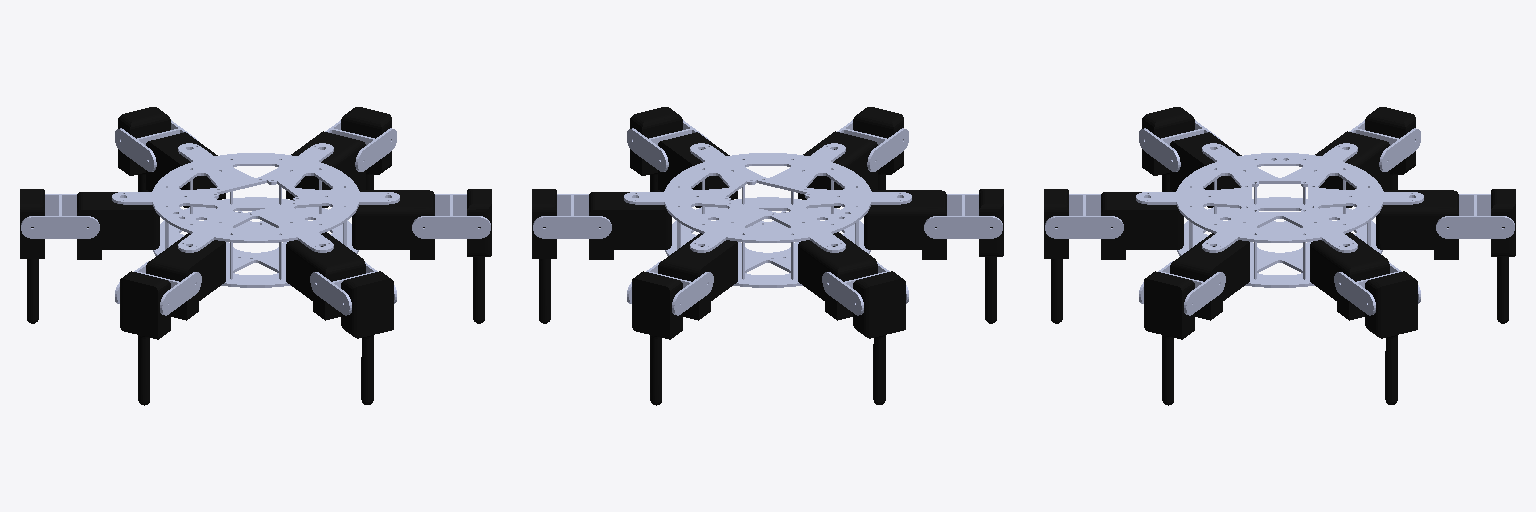
The robot description file, URDF, robot "SpiderRobot":
<robot
  name="SpiderRobot">
  <link
    name="Link_Base">
    <inertial>
      <origin
        xyz="0.092998 -0.23315 0.16338"
        rpy="0 0 0" />
      <mass
        value="0.20744" />
      <inertia
        ixx="0.0010006"
        ixy="-4.7058E-19"
        ixz="4.8231E-07"
        iyy="0.00099647"
        iyz="-5.274E-19"
        izz="0.0017333" />
    </inertial>
    <visual>
      <origin
        xyz="0 0 0"
        rpy="0 0 0" />
      <geometry>
        <mesh
          filename="package://SpiderRobot_pkg/meshes/Link_Base.STL" />
      </geometry>
      <material
        name="">
        <color
          rgba="0.79216 0.81961 0.93333 1" />
      </material>
    </visual>
    <collision>
      <origin
        xyz="0 0 0"
        rpy="0 0 0" />
      <geometry>
        <mesh
          filename="package://SpiderRobot_pkg/meshes/Link_Base.STL" />
      </geometry>
    </collision>
  </link>
  <link
    name="Link_00">
    <inertial>
      <origin
        xyz="0.063911 0.0063284 -0.029431"
        rpy="0 0 0" />
      <mass
        value="0.20143" />
      <inertia
        ixx="0.00016993"
        ixy="3.7525E-07"
        ixz="4.1784E-08"
        iyy="0.00016576"
        iyz="1.1618E-05"
        izz="8.1534E-05" />
    </inertial>
    <visual>
      <origin
        xyz="0 0 0"
        rpy="0 0 0" />
      <geometry>
        <mesh
          filename="package://SpiderRobot_pkg/meshes/Link_00.STL" />
      </geometry>
      <material
        name="">
        <color
          rgba="0.1 0.1 0.1 1" />
      </material>
    </visual>
    <collision>
      <origin
        xyz="0 0 0"
        rpy="0 0 0" />
      <geometry>
        <mesh
          filename="package://SpiderRobot_pkg/meshes/Link_00.STL" />
      </geometry>
    </collision>
  </link>
  <joint
    name="Joint_00"
    type="revolute">
    <origin
      xyz="0.21137 -0.09086 0.16867"
      rpy="-1.5708 0 -1.0472" />
    <parent
      link="Link_Base" />
    <child
      link="Link_00" />
    <axis
      xyz="0 1 0" />
    <limit
      lower="-1.57"
      upper="1.57"
      effort="0"
      velocity="1.57" />
  </joint>
  <link
    name="Link_01">
    <inertial>
      <origin
        xyz="0.02413 -0.015875 0.02286"
        rpy="0 0 0" />
      <mass
        value="0.015683" />
      <inertia
        ixx="6.6059E-06"
        ixy="-8.4703E-22"
        ixz="-5.808E-22"
        iyy="1.0234E-05"
        iyz="5.2268E-22"
        izz="1.532E-05" />
    </inertial>
    <visual>
      <origin
        xyz="0 0 0"
        rpy="0 0 0" />
      <geometry>
        <mesh
          filename="package://SpiderRobot_pkg/meshes/Link_01.STL" />
      </geometry>
      <material
        name="">
        <color
          rgba="0.79216 0.81961 0.93333 1" />
      </material>
    </visual>
    <collision>
      <origin
        xyz="0 0 0"
        rpy="0 0 0" />
      <geometry>
        <mesh
          filename="package://SpiderRobot_pkg/meshes/Link_01.STL" />
      </geometry>
    </collision>
  </link>
  <joint
    name="Joint_01"
    type="revolute">
    <origin
      xyz="0.08812 -0.02286 0.04445"
      rpy="1.5708 0 3.1416" />
    <parent
      link="Link_00" />
    <child
      link="Link_01" />
    <axis
      xyz="1 0 0" />
    <limit
      lower="-1.57"
      upper="1.57"
      effort="0"
      velocity="1.57" />
  </joint>
  <link
    name="Link_02">
    <inertial>
      <origin
        xyz="0.024319 0.012686 0.039333"
        rpy="0 0 0" />
      <mass
        value="0.082362" />
      <inertia
        ixx="7.7214E-05"
        ixy="1.1967E-07"
        ixz="-6.1172E-09"
        iyy="8.6937E-05"
        iyz="-1.0754E-07"
        izz="1.754E-05" />
    </inertial>
    <visual>
      <origin
        xyz="0 0 0"
        rpy="0 0 0" />
      <geometry>
        <mesh
          filename="package://SpiderRobot_pkg/meshes/Link_02.STL" />
      </geometry>
      <material
        name="">
        <color
          rgba="0.1 0.1 0.1 1" />
      </material>
    </visual>
    <collision>
      <origin
        xyz="0 0 0"
        rpy="0 0 0" />
      <geometry>
        <mesh
          filename="package://SpiderRobot_pkg/meshes/Link_02.STL" />
      </geometry>
    </collision>
  </link>
  <joint
    name="Joint_02"
    type="revolute">
    <origin
      xyz="0 0 0"
      rpy="0 0 0" />
    <parent
      link="Link_01" />
    <child
      link="Link_02" />
    <axis
      xyz="1 0 0" />
    <limit
      lower="-1.57"
      upper="1.57"
      effort="0"
      velocity="1.57" />
  </joint>
  <link
    name="Link_10">
    <inertial>
      <origin
        xyz="7.9382E-05 0.032178 0.0073986"
        rpy="0 0 0" />
      <mass
        value="0.20143" />
      <inertia
        ixx="0.00016992"
        ixy="3.7534E-07"
        ixz="-4.1624E-08"
        iyy="0.00016576"
        iyz="-1.1618E-05"
        izz="8.1534E-05" />
    </inertial>
    <visual>
      <origin
        xyz="0 0 0"
        rpy="0 0 0" />
      <geometry>
        <mesh
          filename="package://SpiderRobot_pkg/meshes/Link_10.STL" />
      </geometry>
      <material
        name="">
        <color
          rgba="0.1 0.1 0.1 1" />
      </material>
    </visual>
    <collision>
      <origin
        xyz="0 0 0"
        rpy="0 0 0" />
      <geometry>
        <mesh
          filename="package://SpiderRobot_pkg/meshes/Link_10.STL" />
      </geometry>
    </collision>
  </link>
  <joint
    name="Joint_10"
    type="revolute">
    <origin
      xyz="0.09291 -0.096239 0.13016"
      rpy="1.5708 0 3.1416" />
    <parent
      link="Link_Base" />
    <child
      link="Link_10" />
    <axis
      xyz="0 1 0" />
    <limit
      lower="-1.57"
      upper="1.57"
      effort="0"
      velocity="1.57" />
  </joint>
  <link
    name="Link_11">
    <inertial>
      <origin
        xyz="1.49047441055927E-14 -1.41830991395864E-14 -0.0285749999999704"
        rpy="0 0 0" />
      <mass
        value="0.0156829833047926" />
      <inertia
        ixx="6.60589614129108E-06"
        ixy="2.25106178579062E-22"
        ixz="8.23949438285242E-23"
        iyy="1.53200173406597E-05"
        iyz="-1.32771265675563E-22"
        izz="1.02342708551316E-05" />
    </inertial>
    <visual>
      <origin
        xyz="0 0 0"
        rpy="0 0 0" />
      <geometry>
        <mesh
          filename="package://SpiderRobot_pkg/meshes/Link_11.STL" />
      </geometry>
      <material
        name="">
        <color
          rgba="0.792156862745098 0.819607843137255 0.933333333333333 1" />
      </material>
    </visual>
    <collision>
      <origin
        xyz="0 0 0"
        rpy="0 0 0" />
      <geometry>
        <mesh
          filename="package://SpiderRobot_pkg/meshes/Link_11.STL" />
      </geometry>
    </collision>
  </link>
  <joint
    name="Joint_11"
    type="revolute">
    <origin
      xyz="0 0.038506 0.03683"
      rpy="3.1416 0 3.1416" />
    <parent
      link="Link_10" />
    <child
      link="Link_11" />
    <axis
      xyz="-1 0 0" />
    <limit
      lower="-1.57"
      upper="1.57"
      effort="0"
      velocity="1.57" />
  </joint>
  <link
    name="Link_12">
    <inertial>
      <origin
        xyz="0.024319 0.012686 0.039333"
        rpy="0 0 0" />
      <mass
        value="0.082362" />
      <inertia
        ixx="7.7214E-05"
        ixy="1.1968E-07"
        ixz="-6.1258E-09"
        iyy="8.6937E-05"
        iyz="-1.0753E-07"
        izz="1.754E-05" />
    </inertial>
    <visual>
      <origin
        xyz="0 0 0"
        rpy="0 0 0" />
      <geometry>
        <mesh
          filename="package://SpiderRobot_pkg/meshes/Link_12.STL" />
      </geometry>
      <material
        name="">
        <color
          rgba="0.1 0.1 0.1 1" />
      </material>
    </visual>
    <collision>
      <origin
        xyz="0 0 0"
        rpy="0 0 0" />
      <geometry>
        <mesh
          filename="package://SpiderRobot_pkg/meshes/Link_12.STL" />
      </geometry>
    </collision>
  </link>
  <joint
    name="Joint_12"
    type="revolute">
    <origin
      xyz="0.02413 0.02286 -0.04445"
      rpy="-1.5708 0 3.1416" />
    <parent
      link="Link_11" />
    <child
      link="Link_12" />
    <axis
      xyz="1 0 0" />
    <limit
      lower="-1.57"
      upper="1.57"
      effort="0"
      velocity="1.57" />
  </joint>
  <link
    name="Link_20">
    <inertial>
      <origin
        xyz="7.9384E-05 0.032178 0.0073986"
        rpy="0 0 0" />
      <mass
        value="0.20143" />
      <inertia
        ixx="0.00016992"
        ixy="3.7534E-07"
        ixz="-4.1637E-08"
        iyy="0.00016576"
        iyz="-1.1618E-05"
        izz="8.1534E-05" />
    </inertial>
    <visual>
      <origin
        xyz="0 0 0"
        rpy="0 0 0" />
      <geometry>
        <mesh
          filename="package://SpiderRobot_pkg/meshes/Link_20.STL" />
      </geometry>
      <material
        name="">
        <color
          rgba="0.1 0.1 0.1 1" />
      </material>
    </visual>
    <collision>
      <origin
        xyz="0 0 0"
        rpy="0 0 0" />
      <geometry>
        <mesh
          filename="package://SpiderRobot_pkg/meshes/Link_20.STL" />
      </geometry>
    </collision>
  </link>
  <joint
    name="Joint_20"
    type="revolute">
    <origin
      xyz="-0.025655 -0.16469 0.13016"
      rpy="1.5708 0 -2.0944" />
    <parent
      link="Link_Base" />
    <child
      link="Link_20" />
    <axis
      xyz="0 1 0" />
    <limit
      lower="-1.57"
      upper="1.57"
      effort="0"
      velocity="1.57" />
  </joint>
  <link
    name="Link_21">
    <inertial>
      <origin
        xyz="2.77555756156289E-17 0 -0.028575"
        rpy="0 0 0" />
      <mass
        value="0.0156829833047926" />
      <inertia
        ixx="6.60589614129111E-06"
        ixy="1.25886949684521E-22"
        ixz="2.11758236813575E-22"
        iyy="1.53200173406597E-05"
        iyz="8.22409768924959E-23"
        izz="1.02342708551317E-05" />
    </inertial>
    <visual>
      <origin
        xyz="0 0 0"
        rpy="0 0 0" />
      <geometry>
        <mesh
          filename="package://SpiderRobot_pkg/meshes/Link_21.STL" />
      </geometry>
      <material
        name="">
        <color
          rgba="0.792156862745098 0.819607843137255 0.933333333333333 1" />
      </material>
    </visual>
    <collision>
      <origin
        xyz="0 0 0"
        rpy="0 0 0" />
      <geometry>
        <mesh
          filename="package://SpiderRobot_pkg/meshes/Link_21.STL" />
      </geometry>
    </collision>
  </link>
  <joint
    name="Joint_21"
    type="revolute">
    <origin
      xyz="0 0.038506 0.03683"
      rpy="3.1416 0 3.1416" />
    <parent
      link="Link_20" />
    <child
      link="Link_21" />
    <axis
      xyz="-1 0 0" />
    <limit
      lower="-1.57"
      upper="1.57"
      effort="0"
      velocity="1.57" />
  </joint>
  <link
    name="Link_22">
    <inertial>
      <origin
        xyz="0.024319 0.012686 0.039333"
        rpy="0 0 0" />
      <mass
        value="0.082362" />
      <inertia
        ixx="7.7215E-05"
        ixy="1.1974E-07"
        ixz="-6.0699E-09"
        iyy="8.6937E-05"
        iyz="-1.0747E-07"
        izz="1.754E-05" />
    </inertial>
    <visual>
      <origin
        xyz="0 0 0"
        rpy="0 0 0" />
      <geometry>
        <mesh
          filename="package://SpiderRobot_pkg/meshes/Link_22.STL" />
      </geometry>
      <material
        name="">
        <color
          rgba="0.1 0.1 0.1 1" />
      </material>
    </visual>
    <collision>
      <origin
        xyz="0 0 0"
        rpy="0 0 0" />
      <geometry>
        <mesh
          filename="package://SpiderRobot_pkg/meshes/Link_22.STL" />
      </geometry>
    </collision>
  </link>
  <joint
    name="Joint_22"
    type="revolute">
    <origin
      xyz="0.02413 0.02286 -0.04445"
      rpy="-1.5708 0 3.1416" />
    <parent
      link="Link_21" />
    <child
      link="Link_22" />
    <axis
      xyz="1 0 0" />
    <limit
      lower="-1.57"
      upper="1.57"
      effort="0"
      velocity="1.57" />
  </joint>
  <link
    name="Link_30">
    <inertial>
      <origin
        xyz="7.9365E-05 0.032178 0.0073986"
        rpy="0 0 0" />
      <mass
        value="0.20143" />
      <inertia
        ixx="0.00016993"
        ixy="3.7525E-07"
        ixz="-4.1784E-08"
        iyy="0.00016576"
        iyz="-1.1618E-05"
        izz="8.1534E-05" />
    </inertial>
    <visual>
      <origin
        xyz="0 0 0"
        rpy="0 0 0" />
      <geometry>
        <mesh
          filename="package://SpiderRobot_pkg/meshes/Link_30.STL" />
      </geometry>
      <material
        name="">
        <color
          rgba="0.1 0.1 0.1 1" />
      </material>
    </visual>
    <collision>
      <origin
        xyz="0 0 0"
        rpy="0 0 0" />
      <geometry>
        <mesh
          filename="package://SpiderRobot_pkg/meshes/Link_30.STL" />
      </geometry>
    </collision>
  </link>
  <joint
    name="Joint_30"
    type="revolute">
    <origin
      xyz="-0.025655 -0.3016 0.13016"
      rpy="1.5708 0 -1.0472" />
    <parent
      link="Link_Base" />
    <child
      link="Link_30" />
    <axis
      xyz="0 1 0" />
    <limit
      lower="-1.57"
      upper="1.57"
      effort="0"
      velocity="1.57" />
  </joint>
  <link
    name="Link_31">
    <inertial>
      <origin
        xyz="-1.38777878078145E-16 -1.38777878078145E-16 -0.0285749999999999"
        rpy="0 0 0" />
      <mass
        value="0.0156829833047926" />
      <inertia
        ixx="6.6058961412911E-06"
        ixy="2.75510256767986E-21"
        ixz="-6.56450534122083E-21"
        iyy="1.53200173406597E-05"
        iyz="2.59976339912298E-21"
        izz="1.02342708551317E-05" />
    </inertial>
    <visual>
      <origin
        xyz="0 0 0"
        rpy="0 0 0" />
      <geometry>
        <mesh
          filename="package://SpiderRobot_pkg/meshes/Link_31.STL" />
      </geometry>
      <material
        name="">
        <color
          rgba="0.792156862745098 0.819607843137255 0.933333333333333 1" />
      </material>
    </visual>
    <collision>
      <origin
        xyz="0 0 0"
        rpy="0 0 0" />
      <geometry>
        <mesh
          filename="package://SpiderRobot_pkg/meshes/Link_31.STL" />
      </geometry>
    </collision>
  </link>
  <joint
    name="Joint_31"
    type="revolute">
    <origin
      xyz="0 0.038506 0.03683"
      rpy="-3.1416 0 0" />
    <parent
      link="Link_30" />
    <child
      link="Link_31" />
    <axis
      xyz="1 0 0" />
    <limit
      lower="-1.57"
      upper="1.57"
      effort="0"
      velocity="1.57" />
  </joint>
  <link
    name="Link_32">
    <inertial>
      <origin
        xyz="0.024319 0.012686 0.039333"
        rpy="0 0 0" />
      <mass
        value="0.082362" />
      <inertia
        ixx="7.7214E-05"
        ixy="1.1967E-07"
        ixz="-6.1172E-09"
        iyy="8.6937E-05"
        iyz="-1.0754E-07"
        izz="1.754E-05" />
    </inertial>
    <visual>
      <origin
        xyz="0 0 0"
        rpy="0 0 0" />
      <geometry>
        <mesh
          filename="package://SpiderRobot_pkg/meshes/Link_32.STL" />
      </geometry>
      <material
        name="">
        <color
          rgba="0.1 0.1 0.1 1" />
      </material>
    </visual>
    <collision>
      <origin
        xyz="0 0 0"
        rpy="0 0 0" />
      <geometry>
        <mesh
          filename="package://SpiderRobot_pkg/meshes/Link_32.STL" />
      </geometry>
    </collision>
  </link>
  <joint
    name="Joint_32"
    type="revolute">
    <origin
      xyz="-0.02413 -0.02286 -0.04445"
      rpy="-1.5708 0 0" />
    <parent
      link="Link_31" />
    <child
      link="Link_32" />
    <axis
      xyz="1 0 0" />
    <limit
      lower="-1.57"
      upper="1.57"
      effort="0"
      velocity="1.57" />
  </joint>
  <link
    name="Link_40">
    <inertial>
      <origin
        xyz="7.9382E-05 0.032178 0.0073986"
        rpy="0 0 0" />
      <mass
        value="0.20143" />
      <inertia
        ixx="0.00016992"
        ixy="3.7534E-07"
        ixz="-4.1624E-08"
        iyy="0.00016576"
        iyz="-1.1618E-05"
        izz="8.1534E-05" />
    </inertial>
    <visual>
      <origin
        xyz="0 0 0"
        rpy="0 0 0" />
      <geometry>
        <mesh
          filename="package://SpiderRobot_pkg/meshes/Link_40.STL" />
      </geometry>
      <material
        name="">
        <color
          rgba="0.1 0.1 0.1 1" />
      </material>
    </visual>
    <collision>
      <origin
        xyz="0 0 0"
        rpy="0 0 0" />
      <geometry>
        <mesh
          filename="package://SpiderRobot_pkg/meshes/Link_40.STL" />
      </geometry>
    </collision>
  </link>
  <joint
    name="Joint_40"
    type="revolute">
    <origin
      xyz="0.09291 -0.37005 0.13016"
      rpy="1.5708 0 0" />
    <parent
      link="Link_Base" />
    <child
      link="Link_40" />
    <axis
      xyz="0 1 0" />
    <limit
      lower="-1.57"
      upper="1.57"
      effort="0"
      velocity="1.57" />
  </joint>
  <link
    name="Link_41">
    <inertial>
      <origin
        xyz="-4.16333634234434E-17 0 0.028575"
        rpy="0 0 0" />
      <mass
        value="0.0156829833047926" />
      <inertia
        ixx="6.60589614129109E-06"
        ixy="-1.33581727993433E-22"
        ixz="9.11191143515447E-22"
        iyy="1.53200173406597E-05"
        iyz="3.13155305494476E-22"
        izz="1.02342708551316E-05" />
    </inertial>
    <visual>
      <origin
        xyz="0 0 0"
        rpy="0 0 0" />
      <geometry>
        <mesh
          filename="package://SpiderRobot_pkg/meshes/Link_41.STL" />
      </geometry>
      <material
        name="">
        <color
          rgba="0.792156862745098 0.819607843137255 0.933333333333333 1" />
      </material>
    </visual>
    <collision>
      <origin
        xyz="0 0 0"
        rpy="0 0 0" />
      <geometry>
        <mesh
          filename="package://SpiderRobot_pkg/meshes/Link_41.STL" />
      </geometry>
    </collision>
  </link>
  <joint
    name="Joint_41"
    type="revolute">
    <origin
      xyz="0 0.038506 0.03683"
      rpy="0 0 0" />
    <parent
      link="Link_40" />
    <child
      link="Link_41" />
    <axis
      xyz="1 0 0" />
    <limit
      lower="-1.57"
      upper="1.57"
      effort="0"
      velocity="1.57" />
  </joint>
  <link
    name="Link_42">
    <inertial>
      <origin
        xyz="0.024319 0.012686 0.039333"
        rpy="0 0 0" />
      <mass
        value="0.082362" />
      <inertia
        ixx="7.7214E-05"
        ixy="1.1968E-07"
        ixz="-6.1258E-09"
        iyy="8.6937E-05"
        iyz="-1.0753E-07"
        izz="1.754E-05" />
    </inertial>
    <visual>
      <origin
        xyz="0 0 0"
        rpy="0 0 0" />
      <geometry>
        <mesh
          filename="package://SpiderRobot_pkg/meshes/Link_42.STL" />
      </geometry>
      <material
        name="">
        <color
          rgba="0.1 0.1 0.1 1" />
      </material>
    </visual>
    <collision>
      <origin
        xyz="0 0 0"
        rpy="0 0 0" />
      <geometry>
        <mesh
          filename="package://SpiderRobot_pkg/meshes/Link_42.STL" />
      </geometry>
    </collision>
  </link>
  <joint
    name="Joint_42"
    type="revolute">
    <origin
      xyz="-0.02413 0.02286 0.04445"
      rpy="1.5708 0 0" />
    <parent
      link="Link_41" />
    <child
      link="Link_42" />
    <axis
      xyz="1 0 0" />
    <limit
      lower="-1.57"
      upper="1.57"
      effort="0"
      velocity="1.57" />
  </joint>
  <link
    name="Link_50">
    <inertial>
      <origin
        xyz="7.9384E-05 0.032178 0.0073986"
        rpy="0 0 0" />
      <mass
        value="0.20143" />
      <inertia
        ixx="0.00016992"
        ixy="3.7534E-07"
        ixz="-4.1637E-08"
        iyy="0.00016576"
        iyz="-1.1618E-05"
        izz="8.1534E-05" />
    </inertial>
    <visual>
      <origin
        xyz="0 0 0"
        rpy="0 0 0" />
      <geometry>
        <mesh
          filename="package://SpiderRobot_pkg/meshes/Link_50.STL" />
      </geometry>
      <material
        name="">
        <color
          rgba="0.1 0.1 0.1 1" />
      </material>
    </visual>
    <collision>
      <origin
        xyz="0 0 0"
        rpy="0 0 0" />
      <geometry>
        <mesh
          filename="package://SpiderRobot_pkg/meshes/Link_50.STL" />
      </geometry>
    </collision>
  </link>
  <joint
    name="Joint_50"
    type="revolute">
    <origin
      xyz="0.21147 -0.3016 0.13016"
      rpy="1.5708 0 1.0472" />
    <parent
      link="Link_Base" />
    <child
      link="Link_50" />
    <axis
      xyz="0 1 0" />
    <limit
      lower="-1.57"
      upper="1.57"
      effort="0"
      velocity="1.57" />
  </joint>
  <link
    name="Link_51">
    <inertial>
      <origin
        xyz="2.77555756156289E-17 -8.32667268468867E-17 0.0285749999999999"
        rpy="0 0 0" />
      <mass
        value="0.0156829833047926" />
      <inertia
        ixx="6.6058961412911E-06"
        ixy="1.22637354249833E-21"
        ixz="9.10560418298373E-21"
        iyy="1.53200173406597E-05"
        iyz="2.0681458393273E-21"
        izz="1.02342708551317E-05" />
    </inertial>
    <visual>
      <origin
        xyz="0 0 0"
        rpy="0 0 0" />
      <geometry>
        <mesh
          filename="package://SpiderRobot_pkg/meshes/Link_51.STL" />
      </geometry>
      <material
        name="">
        <color
          rgba="0.792156862745098 0.819607843137255 0.933333333333333 1" />
      </material>
    </visual>
    <collision>
      <origin
        xyz="0 0 0"
        rpy="0 0 0" />
      <geometry>
        <mesh
          filename="package://SpiderRobot_pkg/meshes/Link_51.STL" />
      </geometry>
    </collision>
  </link>
  <joint
    name="Joint_51"
    type="revolute">
    <origin
      xyz="0 0.038506 0.03683"
      rpy="0 0 0" />
    <parent
      link="Link_50" />
    <child
      link="Link_51" />
    <axis
      xyz="1 0 0" />
    <limit
      lower="-1.57"
      upper="1.57"
      effort="0"
      velocity="1.57" />
  </joint>
  <link
    name="Link_52">
    <inertial>
      <origin
        xyz="0.024319 0.012686 0.039333"
        rpy="0 0 0" />
      <mass
        value="0.082362" />
      <inertia
        ixx="7.7214E-05"
        ixy="1.1974E-07"
        ixz="-6.0787E-09"
        iyy="8.6937E-05"
        iyz="-1.0747E-07"
        izz="1.754E-05" />
    </inertial>
    <visual>
      <origin
        xyz="0 0 0"
        rpy="0 0 0" />
      <geometry>
        <mesh
          filename="package://SpiderRobot_pkg/meshes/Link_52.STL" />
      </geometry>
      <material
        name="">
        <color
          rgba="0.1 0.1 0.1 1" />
      </material>
    </visual>
    <collision>
      <origin
        xyz="0 0 0"
        rpy="0 0 0" />
      <geometry>
        <mesh
          filename="package://SpiderRobot_pkg/meshes/Link_52.STL" />
      </geometry>
    </collision>
  </link>
  <joint
    name="Joint_52"
    type="revolute">
    <origin
      xyz="-0.02413 0.02286 0.04445"
      rpy="1.5708 0 0" />
    <parent
      link="Link_51" />
    <child
      link="Link_52" />
    <axis
      xyz="1 0 0" />
    <limit
      lower="-1.57"
      upper="1.57"
      effort="0"
      velocity="1.57" />
  </joint>
</robot>

--- What the picture shows (computed from the rendered views, not written in the file) ---
The picture shows the robot from 3 angles, left to right: view 1: azimuth 30°, elevation 25°; view 2: azimuth 150°, elevation 25°; view 3: azimuth 270°, elevation 25°; orthographic projection.
Model SpiderRobot with 19 links and 18 joints (18 revolute), rooted at Link_Base, posed all joints at 0.
Visible links, largest first — view 1: Link_Base, Link_50, Link_20, Link_42, Link_32, Link_40, Link_30, Link_21, Link_51, Link_22, Link_52, Link_00 (+7 smaller); view 2: Link_Base, Link_30, Link_00, Link_22, Link_12, Link_20, Link_10, Link_01, Link_31, Link_02, Link_32, Link_40 (+7 smaller); view 3: Link_Base, Link_10, Link_40, Link_02, Link_52, Link_00, Link_50, Link_11, Link_41, Link_42, Link_12, Link_20 (+7 smaller).
Boxes of the visible links, x1,y1,x2,y2 form: Link_Base: (112, 143, 399, 287); Link_50: (352, 190, 434, 259); Link_20: (77, 192, 159, 259); Link_42: (341, 271, 393, 404); Link_32: (120, 271, 170, 405); Link_40: (286, 232, 365, 320); Link_30: (146, 233, 225, 320); Link_21: (21, 194, 99, 238); Link_51: (412, 194, 490, 238); Link_22: (20, 189, 44, 323); Link_52: (467, 189, 491, 323); Link_00: (286, 131, 365, 207); Link_Base: (624, 143, 911, 287); Link_30: (864, 190, 946, 259); Link_00: (589, 192, 671, 259); Link_22: (853, 271, 905, 404); Link_12: (632, 271, 682, 405); Link_20: (798, 232, 877, 320); Link_10: (658, 233, 737, 320); Link_01: (533, 194, 611, 238); Link_31: (924, 194, 1002, 238); Link_02: (532, 189, 556, 323); Link_32: (979, 189, 1003, 323); Link_40: (798, 131, 877, 207); Link_Base: (1136, 143, 1423, 287); Link_10: (1376, 190, 1458, 259); Link_40: (1101, 192, 1183, 259); Link_02: (1365, 271, 1417, 404); Link_52: (1144, 271, 1194, 405); Link_00: (1310, 232, 1389, 320); Link_50: (1170, 233, 1249, 320); Link_11: (1436, 194, 1514, 238); Link_41: (1045, 194, 1123, 238); Link_42: (1044, 189, 1068, 323); Link_12: (1491, 189, 1515, 323); Link_20: (1315, 131, 1389, 207).
Size in the robot's own frame: 0.4498 by 0.4872 by 0.1448 metres.
19 mesh visuals loaded from 19 distinct referenced files (19 binary STL).
